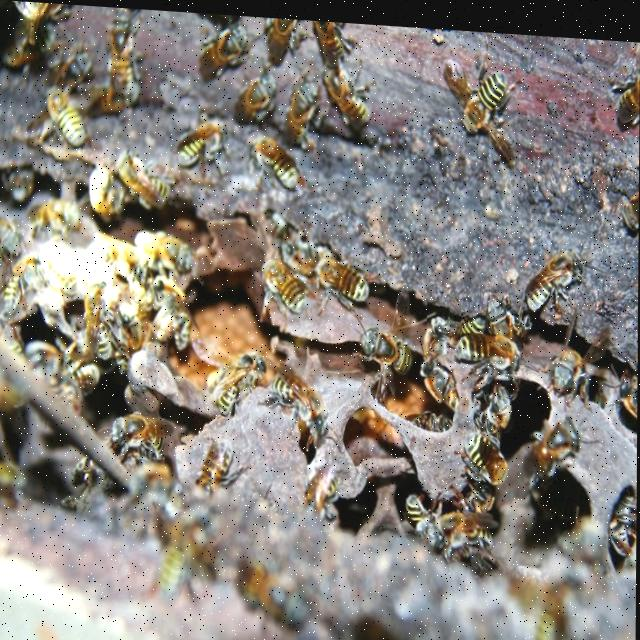Meliponula: (524, 229, 589, 312), (458, 48, 509, 143), (110, 404, 177, 472), (531, 403, 587, 484), (105, 6, 150, 105), (79, 273, 122, 367), (30, 83, 94, 146), (245, 128, 313, 186), (461, 306, 525, 367), (203, 348, 257, 420), (467, 416, 515, 495), (167, 117, 231, 175), (199, 418, 243, 499), (361, 316, 418, 374), (325, 68, 381, 122), (544, 327, 589, 389), (450, 498, 495, 560), (309, 461, 347, 529), (421, 346, 461, 408), (466, 463, 503, 528), (403, 481, 449, 530), (270, 351, 302, 413), (479, 378, 516, 429), (427, 300, 450, 341)
